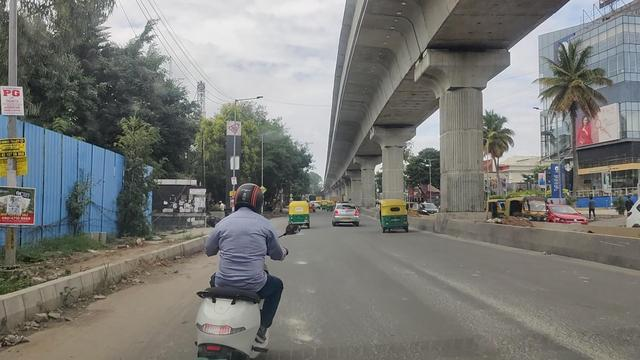LMV: (196, 182, 278, 360), (376, 198, 404, 234), (329, 201, 357, 228), (284, 200, 306, 227)
